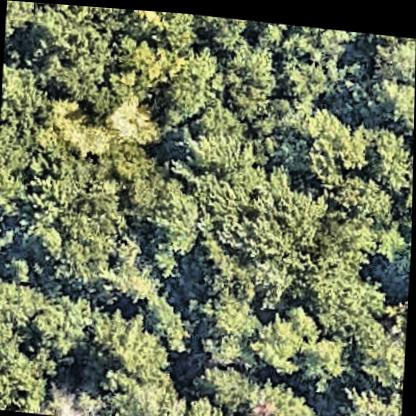tree-top: (211, 160, 321, 292), (30, 149, 131, 285), (31, 2, 115, 103), (86, 308, 171, 384), (212, 35, 288, 114), (296, 256, 385, 323), (143, 166, 206, 259), (250, 300, 325, 377), (305, 104, 376, 178), (354, 295, 408, 390), (181, 100, 251, 172), (30, 287, 98, 361), (160, 44, 224, 121), (0, 325, 52, 413), (111, 28, 172, 101), (274, 41, 341, 104), (196, 280, 264, 342), (327, 165, 398, 223), (362, 119, 414, 196), (108, 371, 191, 416), (0, 109, 35, 213), (300, 325, 356, 387), (1, 59, 54, 124), (48, 370, 120, 416), (113, 253, 167, 314), (363, 119, 411, 186), (186, 357, 259, 401), (120, 7, 203, 45), (52, 110, 114, 160), (242, 376, 319, 416), (0, 262, 49, 324), (145, 290, 196, 349), (105, 92, 156, 145), (315, 213, 375, 258), (373, 67, 415, 130), (282, 19, 361, 52), (368, 26, 416, 80), (338, 378, 403, 416), (189, 11, 259, 44), (380, 215, 413, 280), (4, 0, 39, 43), (183, 386, 233, 416)
